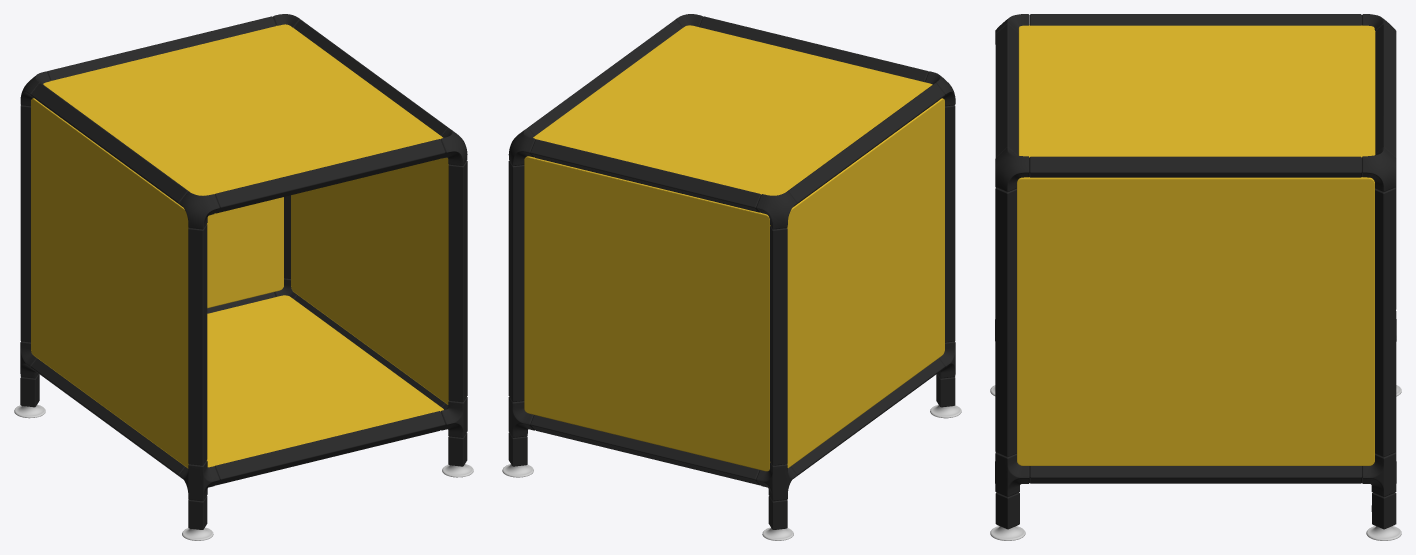
The picture shows the model from 3 angles, left to right: view 1: azimuth 30°, elevation 25°; view 2: azimuth 150°, elevation 25°; view 3: azimuth 270°, elevation 25°; orthographic projection. The views are drawn at different scales.
Parts seen in each view (by area): view 1: 329x374x329; view 2: 329x374x329; view 3: 329x374x329.
Boxes of the visible parts, left/top/right/bottom form: 329x374x329: left=14, top=14, right=473, bottom=540; 329x374x329: left=502, top=14, right=961, bottom=540; 329x374x329: left=990, top=14, right=1401, bottom=540.
Size of the model in its own units: 0.4189 by 0.4683 by 0.4632.
